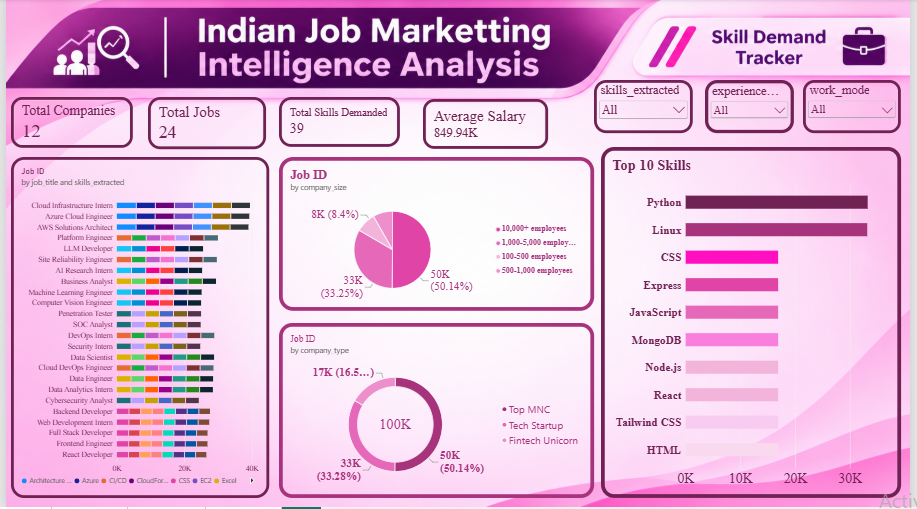

Layout of this report page (visuals, bound fields, positions):
{"tool":"powerbi","page":{"name":"Page 5","canvas":[1920,1080],"ordinal":2},"visuals":[{"type":"cardVisual","fields":{"Data":["clean_jobs.Total Jobs"]},"box":[301.9,208.3,250.9,110.6],"z":0},{"type":"cardVisual","fields":{"Data":["clean_jobs.Total Companies"]},"box":[10.6,208.3,259.4,108.4],"z":1000},{"type":"cardVisual","fields":{"Data":["clean_jobs.Average Salary"]},"box":[886.5,212.6,265.7,106.3],"z":2000},{"type":"cardVisual","fields":{"Data":["clean_jobs.Total Skills Demanded"]},"box":[580.4,208.3,257.2,106.3],"z":3000},{"type":"slicer","fields":{"Values":["clean_jobs.work_mode"]},"box":[1694.4,172.2,208.3,112.7],"z":4000},{"type":"slicer","fields":{"Values":["clean_jobs.experience_level"]},"box":[1486.1,172.2,189.2,112.7],"z":5000},{"type":"clusteredBarChart","title":"Top 10 Skills","fields":{"Category":["clean_jobs.skills_extracted"],"Y":["clean_jobs.skill Count"]},"box":[1265,314.6,637.8,746.2],"z":7000},{"type":"slicer","fields":{"Values":["clean_jobs.skills_extracted"]},"box":[1250.1,172.2,210.5,112.7],"z":8000},{"type":"barChart","fields":{"Category":["clean_jobs.job_title"],"Series":["clean_jobs.skills_extracted"],"Y":["clean_jobs.Job ID"]},"box":[10.6,335.9,548.5,725],"z":8002},{"type":"donutChart","fields":{"Category":["clean_jobs.company_type"],"Y":["clean_jobs.Job ID"]},"box":[580.4,688.8,669.7,372],"z":8003},{"type":"pieChart","fields":{"Category":["clean_jobs.company_size"],"Y":["clean_jobs.Job ID"]},"box":[580.4,335.9,669.7,327.4],"z":8004}]}

Visuals, with their boxes in screenshot pixels (x1, y1, x2, y2), scaled from the page's 1920x1080 canvas onto the 917x509 screenshot:
cardVisual - clean_jobs.Total Jobs: {"x1": 144, "y1": 98, "x2": 264, "y2": 150}
cardVisual - clean_jobs.Total Companies: {"x1": 5, "y1": 98, "x2": 129, "y2": 149}
cardVisual - clean_jobs.Average Salary: {"x1": 423, "y1": 100, "x2": 550, "y2": 150}
cardVisual - clean_jobs.Total Skills Demanded: {"x1": 277, "y1": 98, "x2": 400, "y2": 148}
slicer - clean_jobs.work_mode: {"x1": 809, "y1": 81, "x2": 909, "y2": 134}
slicer - clean_jobs.experience_level: {"x1": 710, "y1": 81, "x2": 800, "y2": 134}
"Top 10 Skills" clusteredBarChart: {"x1": 604, "y1": 148, "x2": 909, "y2": 500}
slicer - clean_jobs.skills_extracted: {"x1": 597, "y1": 81, "x2": 698, "y2": 134}
barChart - clean_jobs.job_title x clean_jobs.skills_extracted: {"x1": 5, "y1": 158, "x2": 267, "y2": 500}
donutChart - clean_jobs.company_type x clean_jobs.Job ID: {"x1": 277, "y1": 325, "x2": 597, "y2": 500}
pieChart - clean_jobs.company_size x clean_jobs.Job ID: {"x1": 277, "y1": 158, "x2": 597, "y2": 313}
